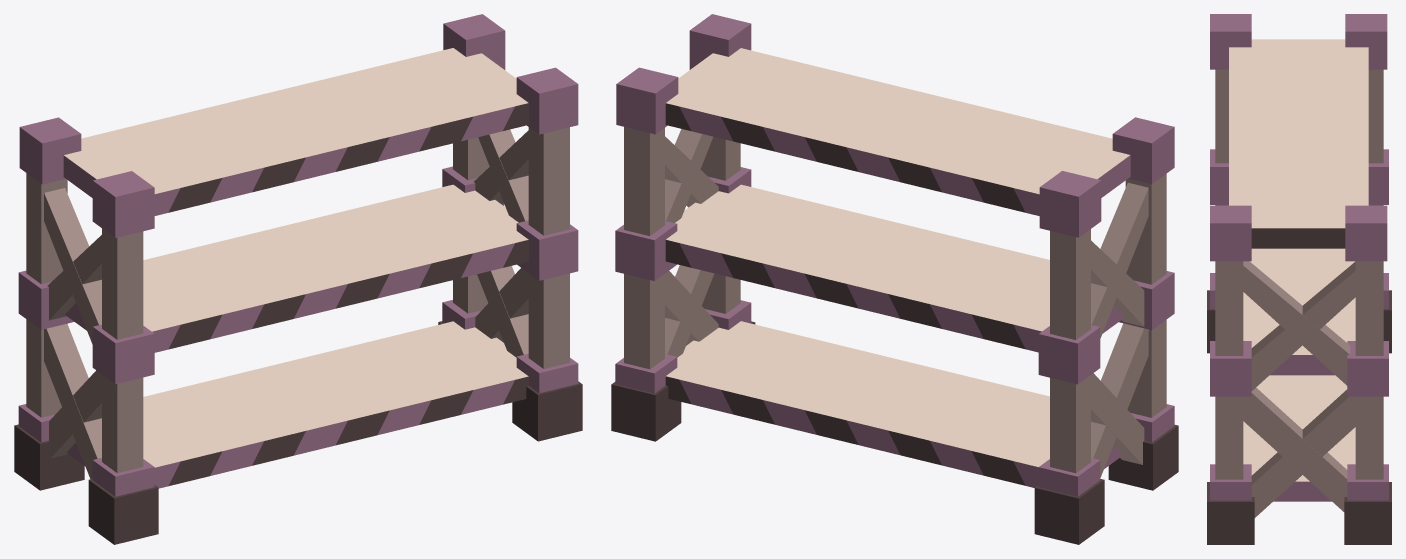
File: Purple_Shelf.fbx
3 views of the same model, side by side, from view 1: azimuth 30°, elevation 25°; view 2: azimuth 150°, elevation 25°; view 3: azimuth 270°, elevation 25° (orthographic). The views are drawn at different scales.
Parts seen in each view (by area): view 1: Purple_Shelf; view 2: Purple_Shelf; view 3: Purple_Shelf.
Part boxes in pixels (box(x1,y1,x2,y2)): Purple_Shelf: box(14, 14, 582, 544); Purple_Shelf: box(611, 14, 1178, 544); Purple_Shelf: box(1207, 14, 1391, 544).
Size of the model in its own units: 179 by 127 by 66.16.
